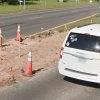Car: (53, 17, 100, 89)
